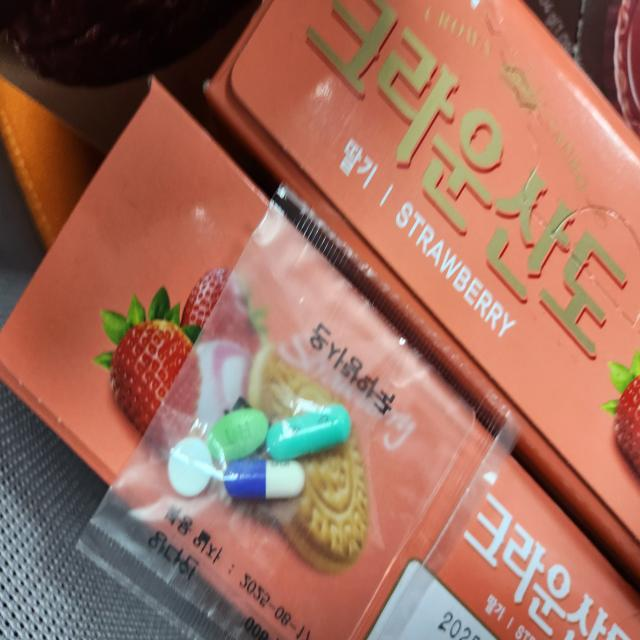러키펜정: (167, 436, 215, 497)
씨엠지세파클러캡슐: (224, 454, 304, 503)
에르도캡슐: (266, 408, 352, 464)
휴티렌정: (207, 405, 271, 474)
